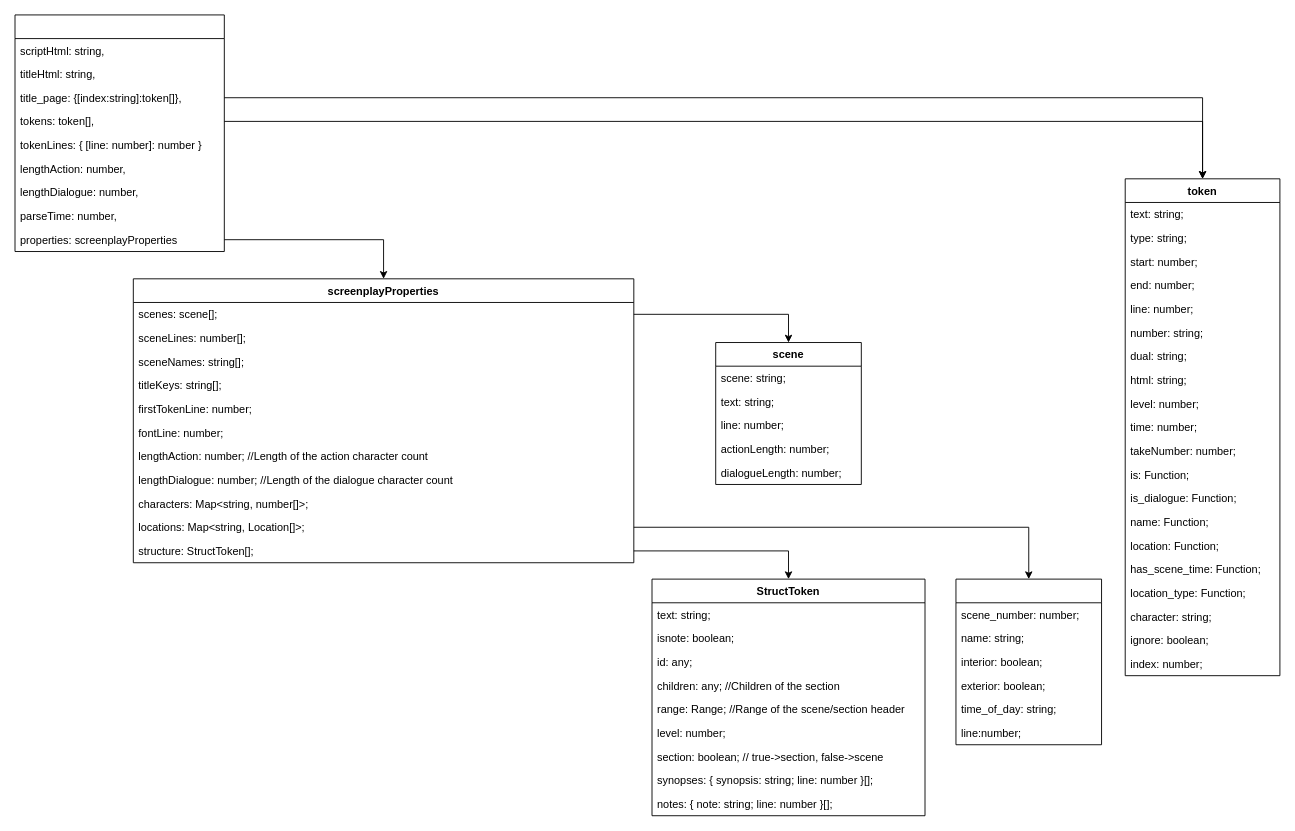
This 1295x831 diagram has some shape labels left out. Each missing label, with the box of its shape:
Location: (955, 578, 1102, 745)
parseoutput: (14, 14, 224, 252)
